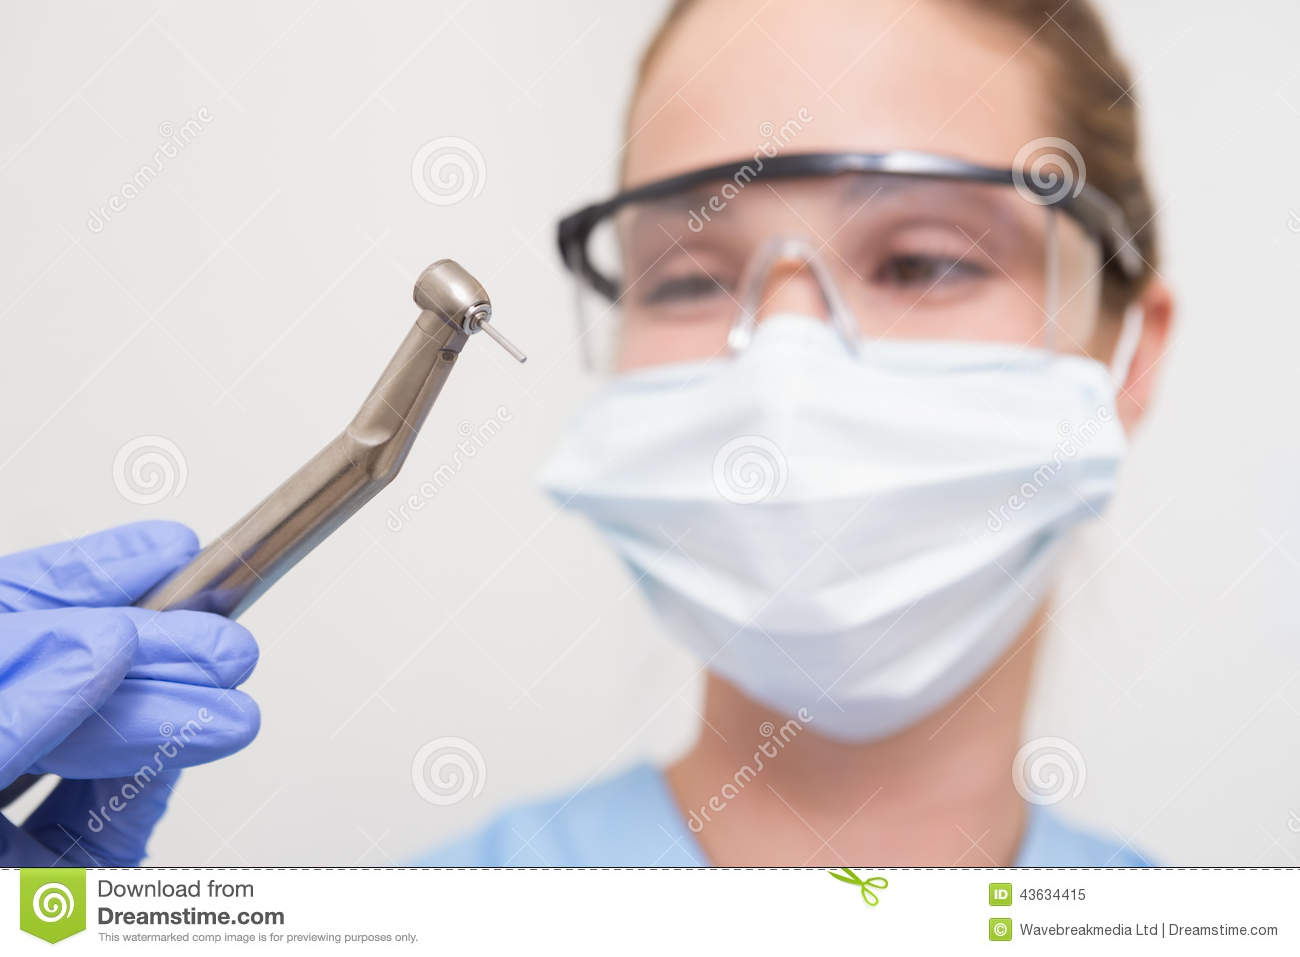mask: (550, 335, 1135, 745)
